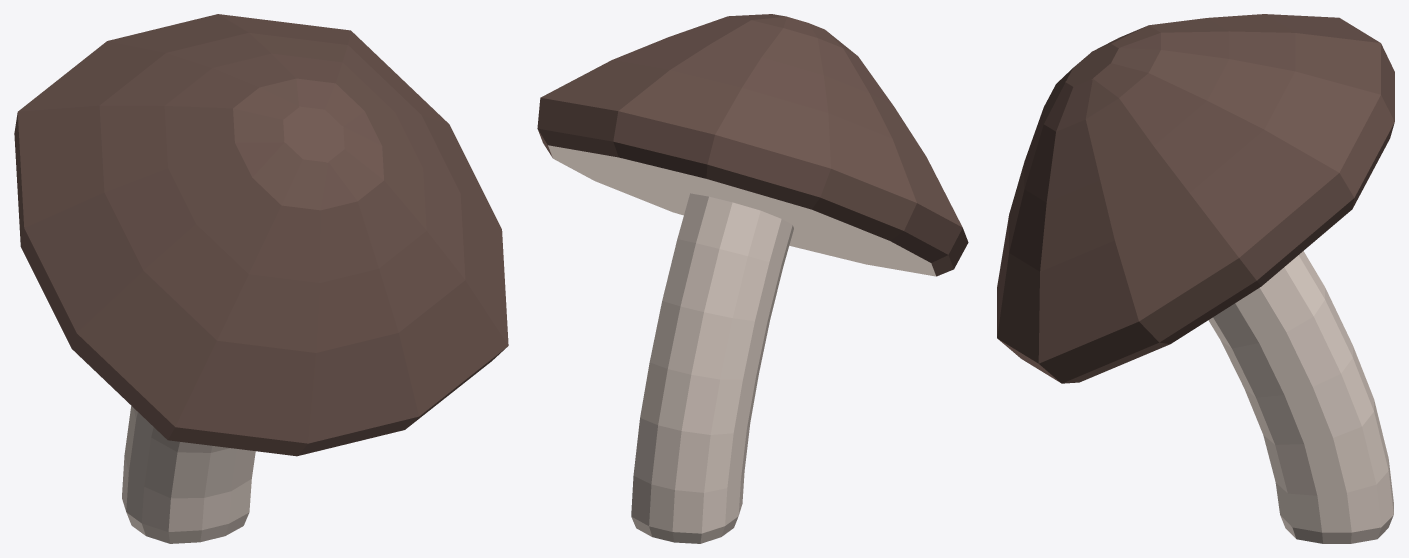
Rendered from Mushroom1.3.fbx.
3 renders of one model, left to right at view 1: azimuth 30°, elevation 25°; view 2: azimuth 150°, elevation 25°; view 3: azimuth 270°, elevation 25°, orthographic. The views are drawn at different scales.
Parts seen in each view (by area): view 1: Mushroom1.3; view 2: Mushroom1.3; view 3: Mushroom1.3.
Part boxes in pixels (left/top/right/bottom): Mushroom1.3: left=14, top=14, right=508, bottom=543; Mushroom1.3: left=537, top=14, right=968, bottom=543; Mushroom1.3: left=997, top=14, right=1394, bottom=543.
Bounding box in the file's own units: 163 × 185 × 139.
